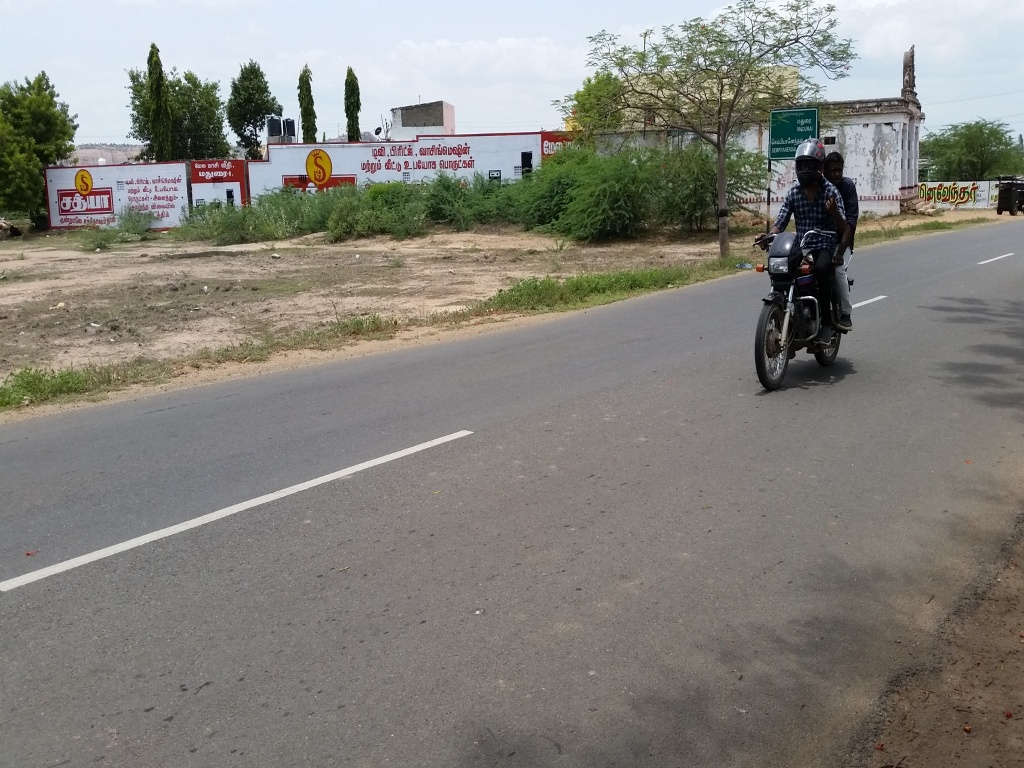biker: (736, 111, 887, 401)
helmet: (792, 132, 827, 193)
nohelmet: (826, 148, 850, 190)
